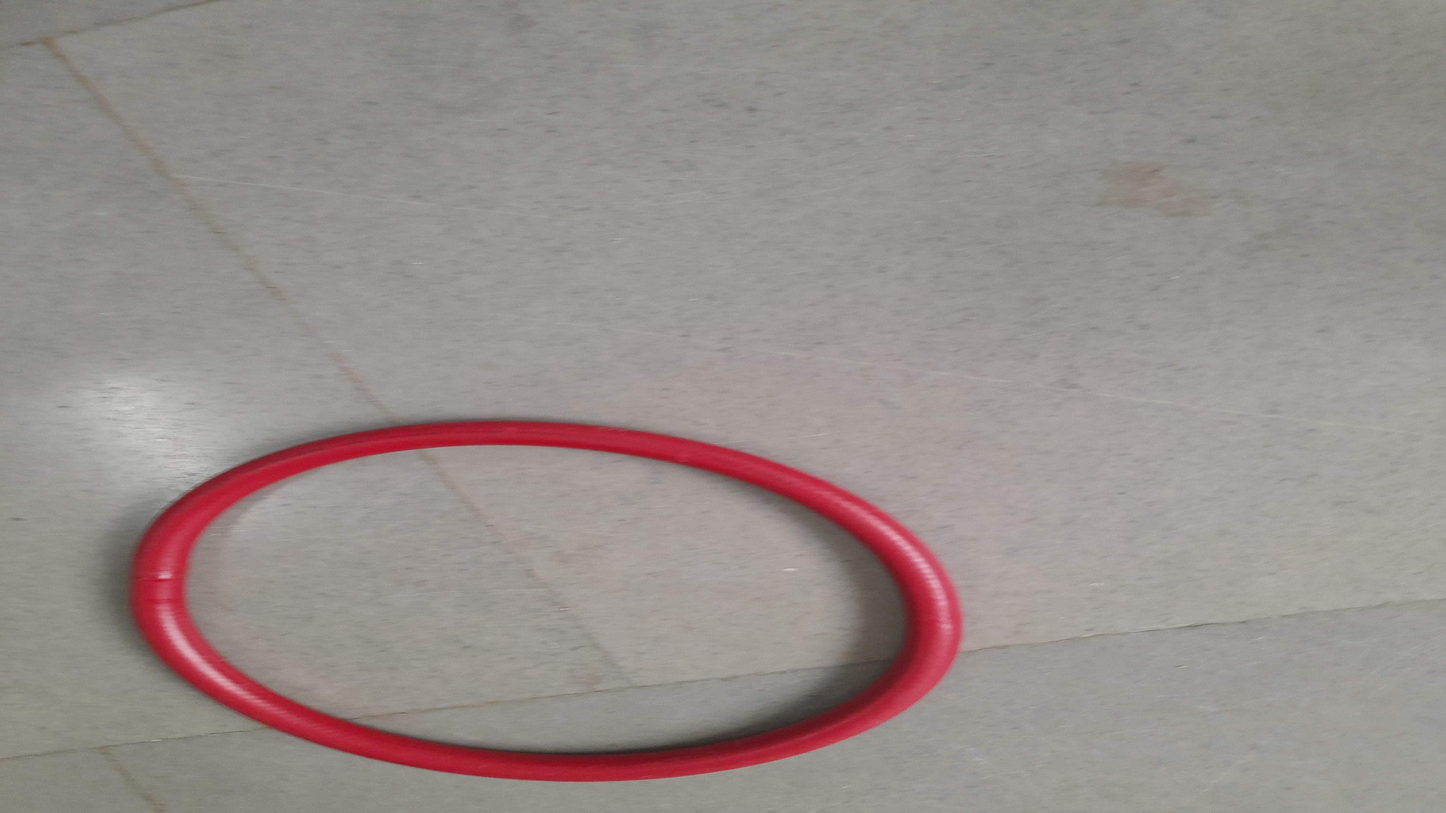Red ring: (133, 425, 961, 781)
